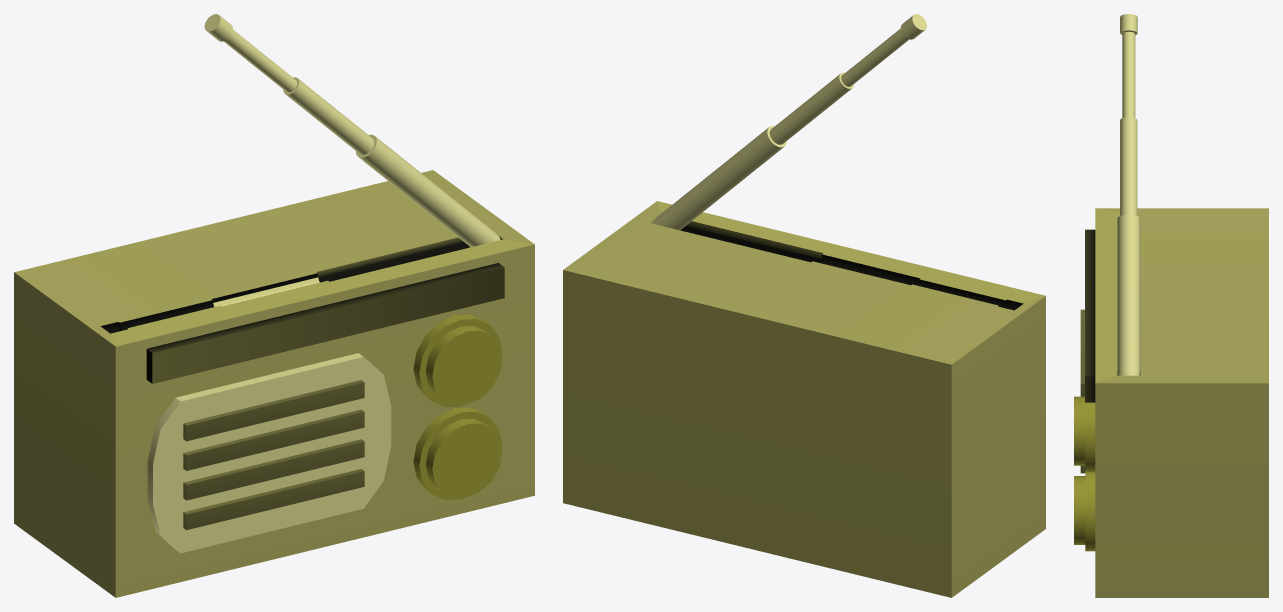
Rendered from Radio.fbx.
The picture shows the model from 3 angles, left to right: view 1: azimuth 30°, elevation 25°; view 2: azimuth 150°, elevation 25°; view 3: azimuth 270°, elevation 25°; orthographic projection. The views are drawn at different scales.
Parts seen in each view (by area): view 1: RadioBody; view 2: RadioBody; view 3: RadioBody.
Part boxes in pixels (bbox=[...]): RadioBody: bbox=[14, 14, 534, 597]; RadioBody: bbox=[563, 14, 1045, 597]; RadioBody: bbox=[1074, 14, 1268, 597].
Size of the model in its own units: 62.33 by 76.58 by 29.35.
